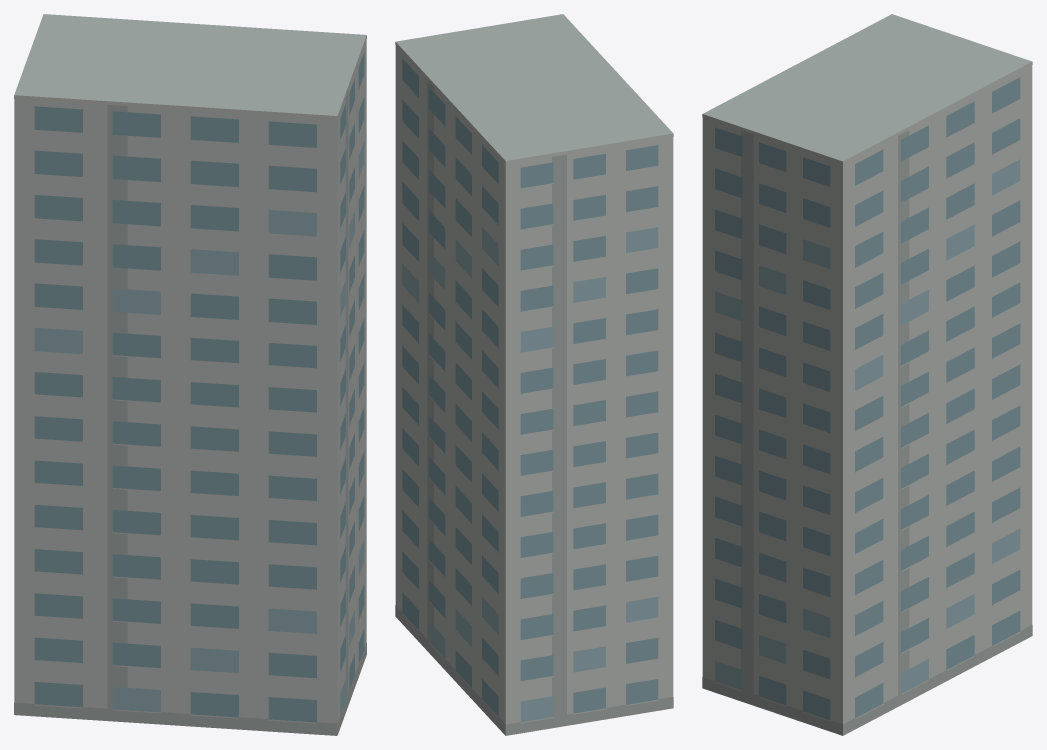
File: residential-966d023e-a409-4547-8f26-2ef2c32264ca.glb
3 views of the same model, side by side, from view 1: azimuth 30°, elevation 25°; view 2: azimuth 150°, elevation 25°; view 3: azimuth 270°, elevation 25° (orthographic). The views are drawn at different scales.
Visible parts, largest first — view 1: residential-966d023e-a409-4547-8f26-2ef2c32264ca.tmp; view 2: residential-966d023e-a409-4547-8f26-2ef2c32264ca.tmp; view 3: residential-966d023e-a409-4547-8f26-2ef2c32264ca.tmp.
Boxes of the visible parts, x1=… form: residential-966d023e-a409-4547-8f26-2ef2c32264ca.tmp: x1=14, y1=14, x2=366, y2=735; residential-966d023e-a409-4547-8f26-2ef2c32264ca.tmp: x1=395, y1=14, x2=673, y2=735; residential-966d023e-a409-4547-8f26-2ef2c32264ca.tmp: x1=702, y1=14, x2=1032, y2=735.
Bounding box in the file's own units: 22.59 × 41 × 21.35.
